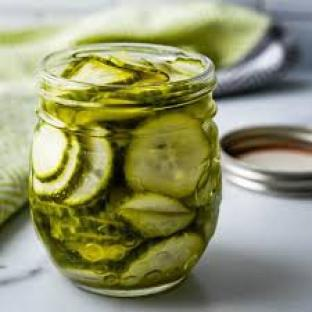Cucumber: (125, 113, 210, 198), (121, 232, 205, 287), (118, 193, 195, 238), (64, 138, 112, 205), (32, 135, 81, 199), (63, 56, 138, 85), (32, 124, 69, 180), (103, 55, 169, 81), (66, 242, 131, 262), (170, 57, 205, 80)
